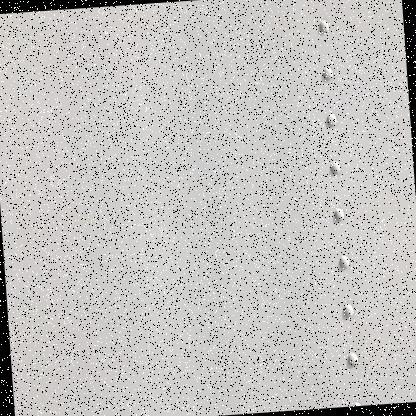Nocrack: (11, 15, 413, 415)
